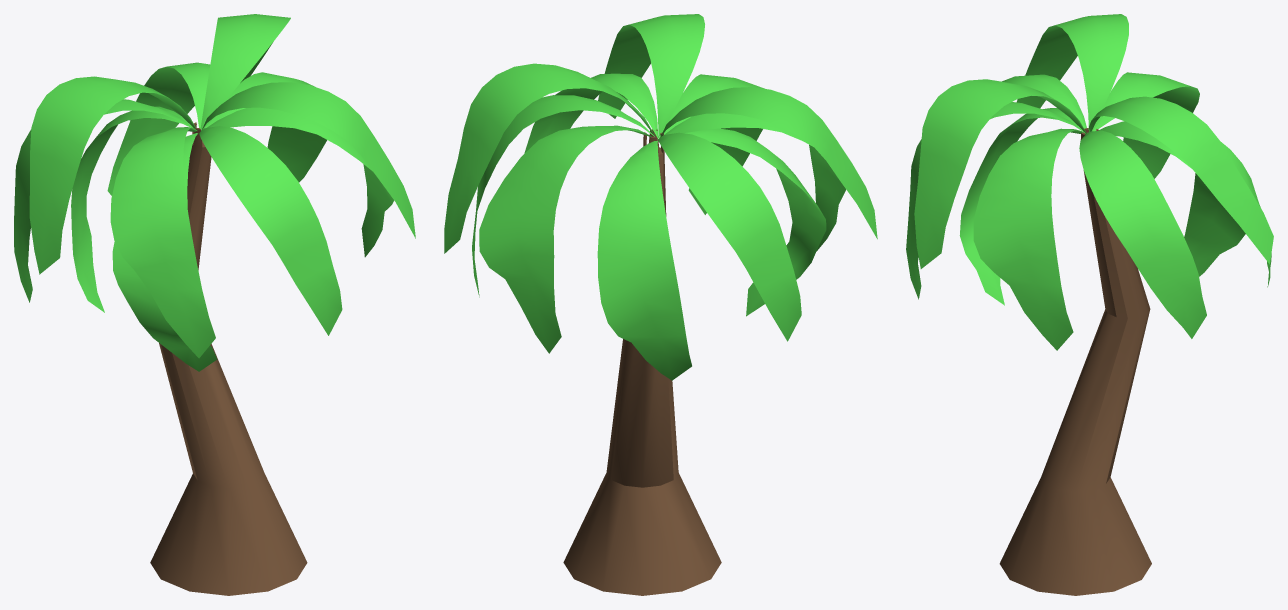
Rendered from PalmTree1.fbx.
3 views of the same model, side by side, from view 1: azimuth 30°, elevation 25°; view 2: azimuth 150°, elevation 25°; view 3: azimuth 270°, elevation 25° (orthographic). The views are drawn at different scales.
Parts seen in each view (by area): view 1: palmTree1; view 2: palmTree1; view 3: palmTree1.
Boxes of the visible parts, <box> form: palmTree1: <box>14,14,415,595</box>; palmTree1: <box>444,14,877,595</box>; palmTree1: <box>906,14,1273,595</box>.
Bounding box in the file's own units: 266 × 367 × 253.
